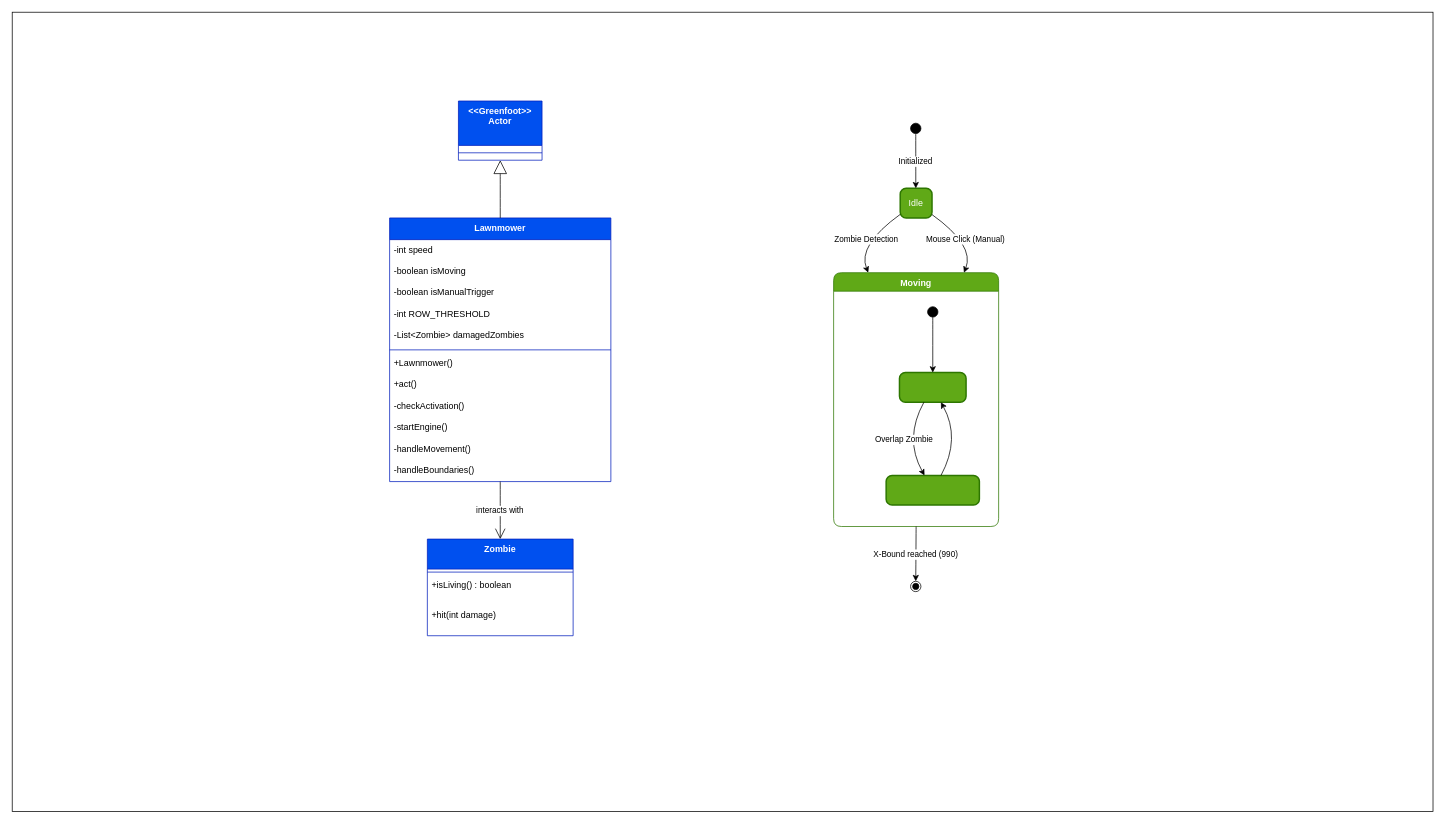
This 1445x824 diagram has some shape labels left out. The centre of each missing label's shape, as x and y in pixels:
"DealingDamage" goes at [932,489].
"Processing" goes at [932,387].
